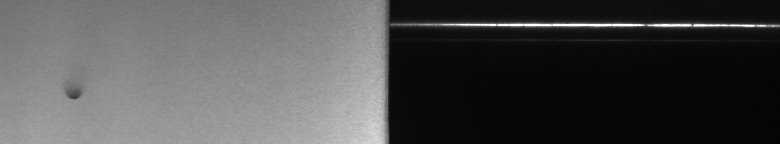fi: (64, 84, 85, 108)
